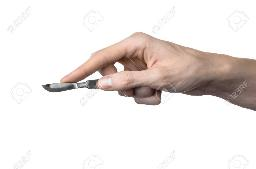scalpel: (42, 79, 102, 93)
